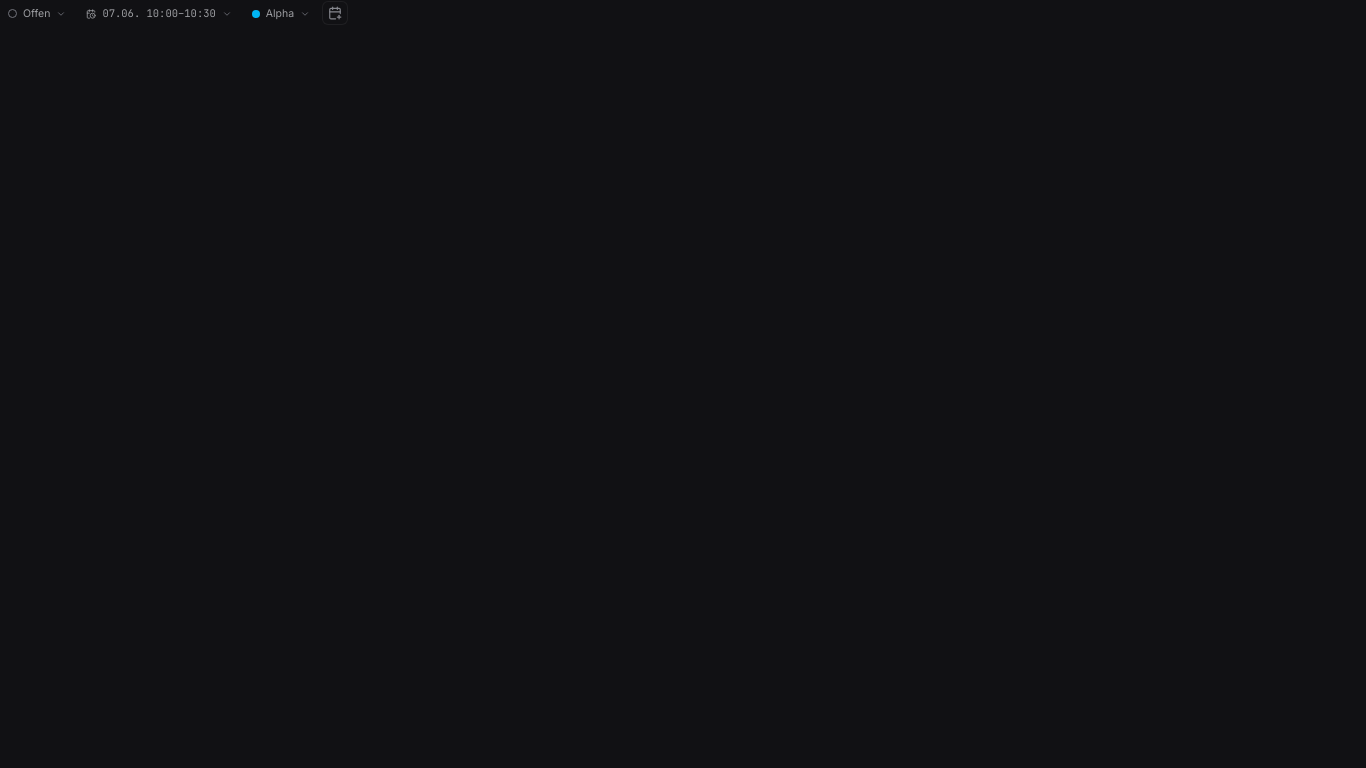
Test: TaskMetaChips — edge cases › Escape key closes the open editor
This screenshot has width=1366, height=768.
Open status menu
Click the button "Offen".
click(37, 14)  # box [0,2,74,26]
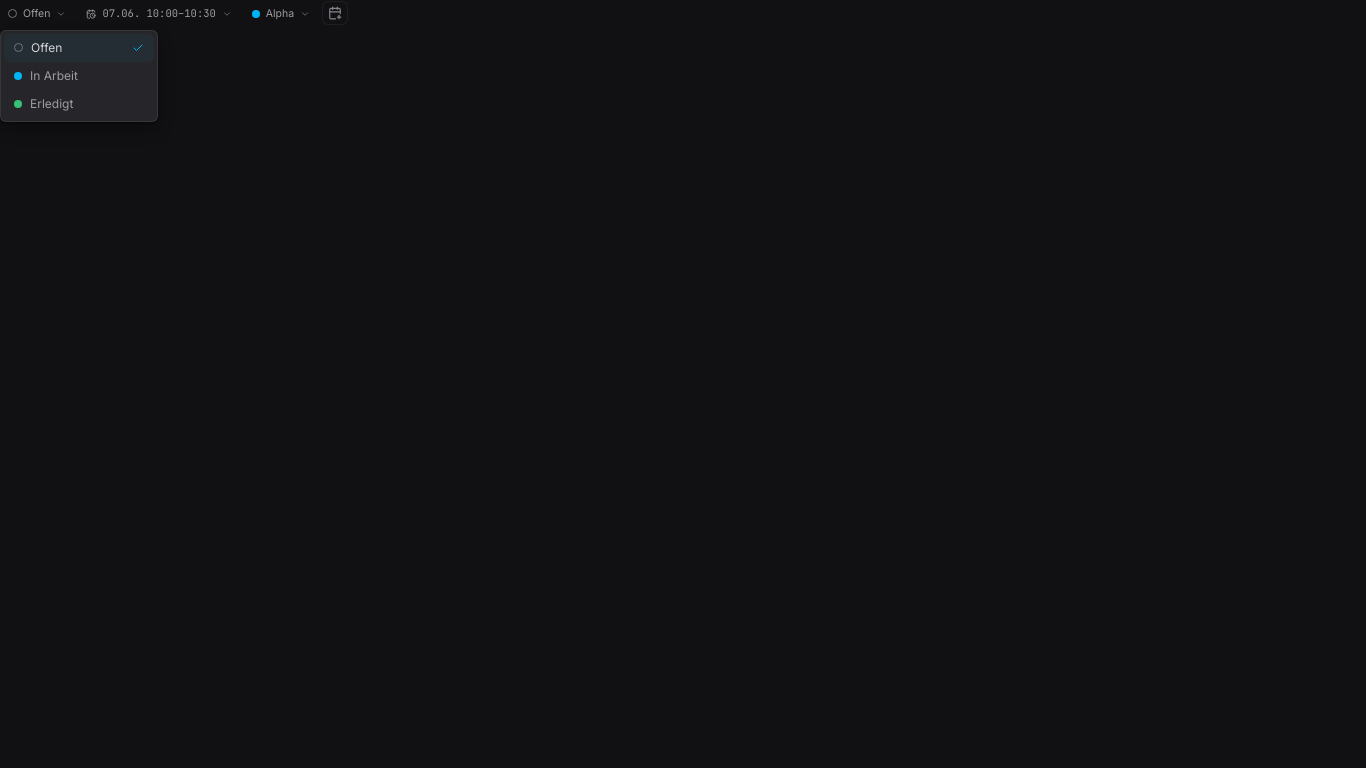
Expected: the menu is shown, [4,34,154,118]
Press Escape
Press Escape
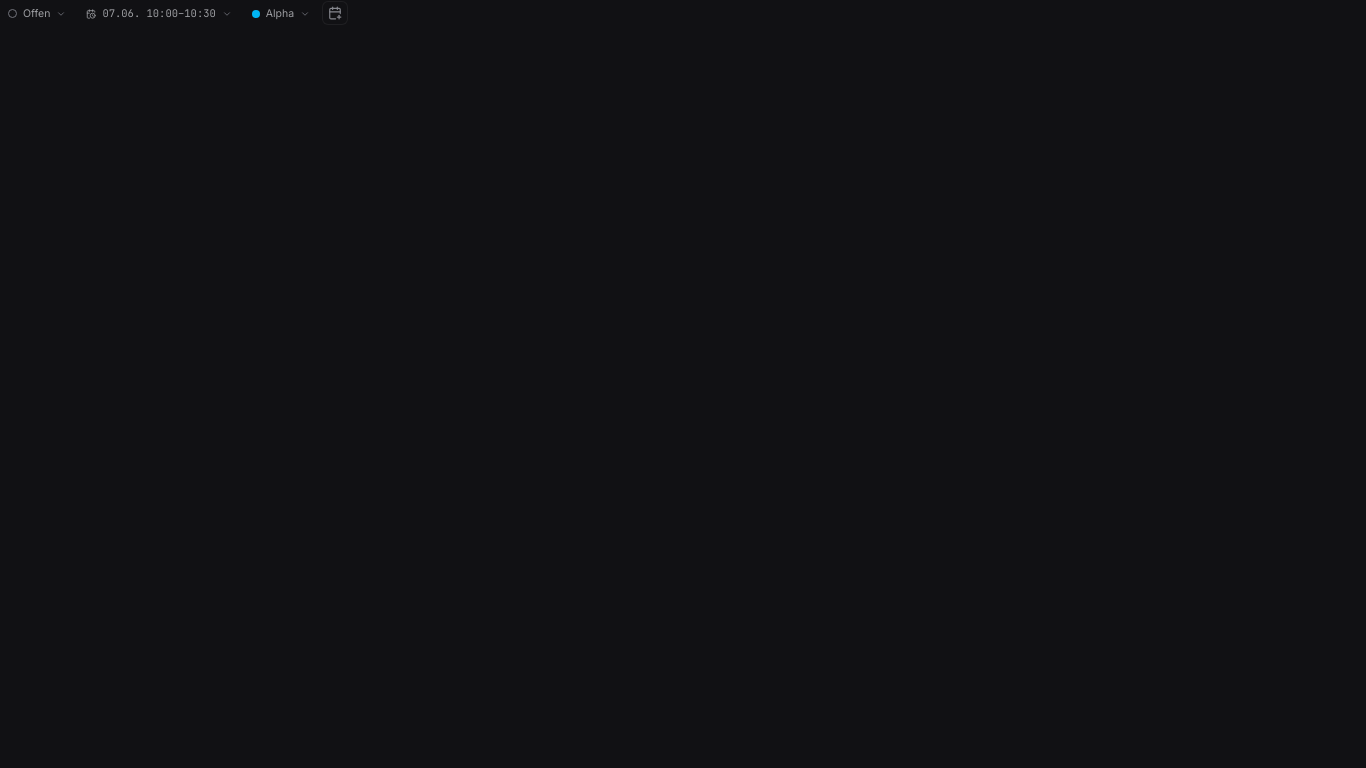
Expected: the menu is gone
